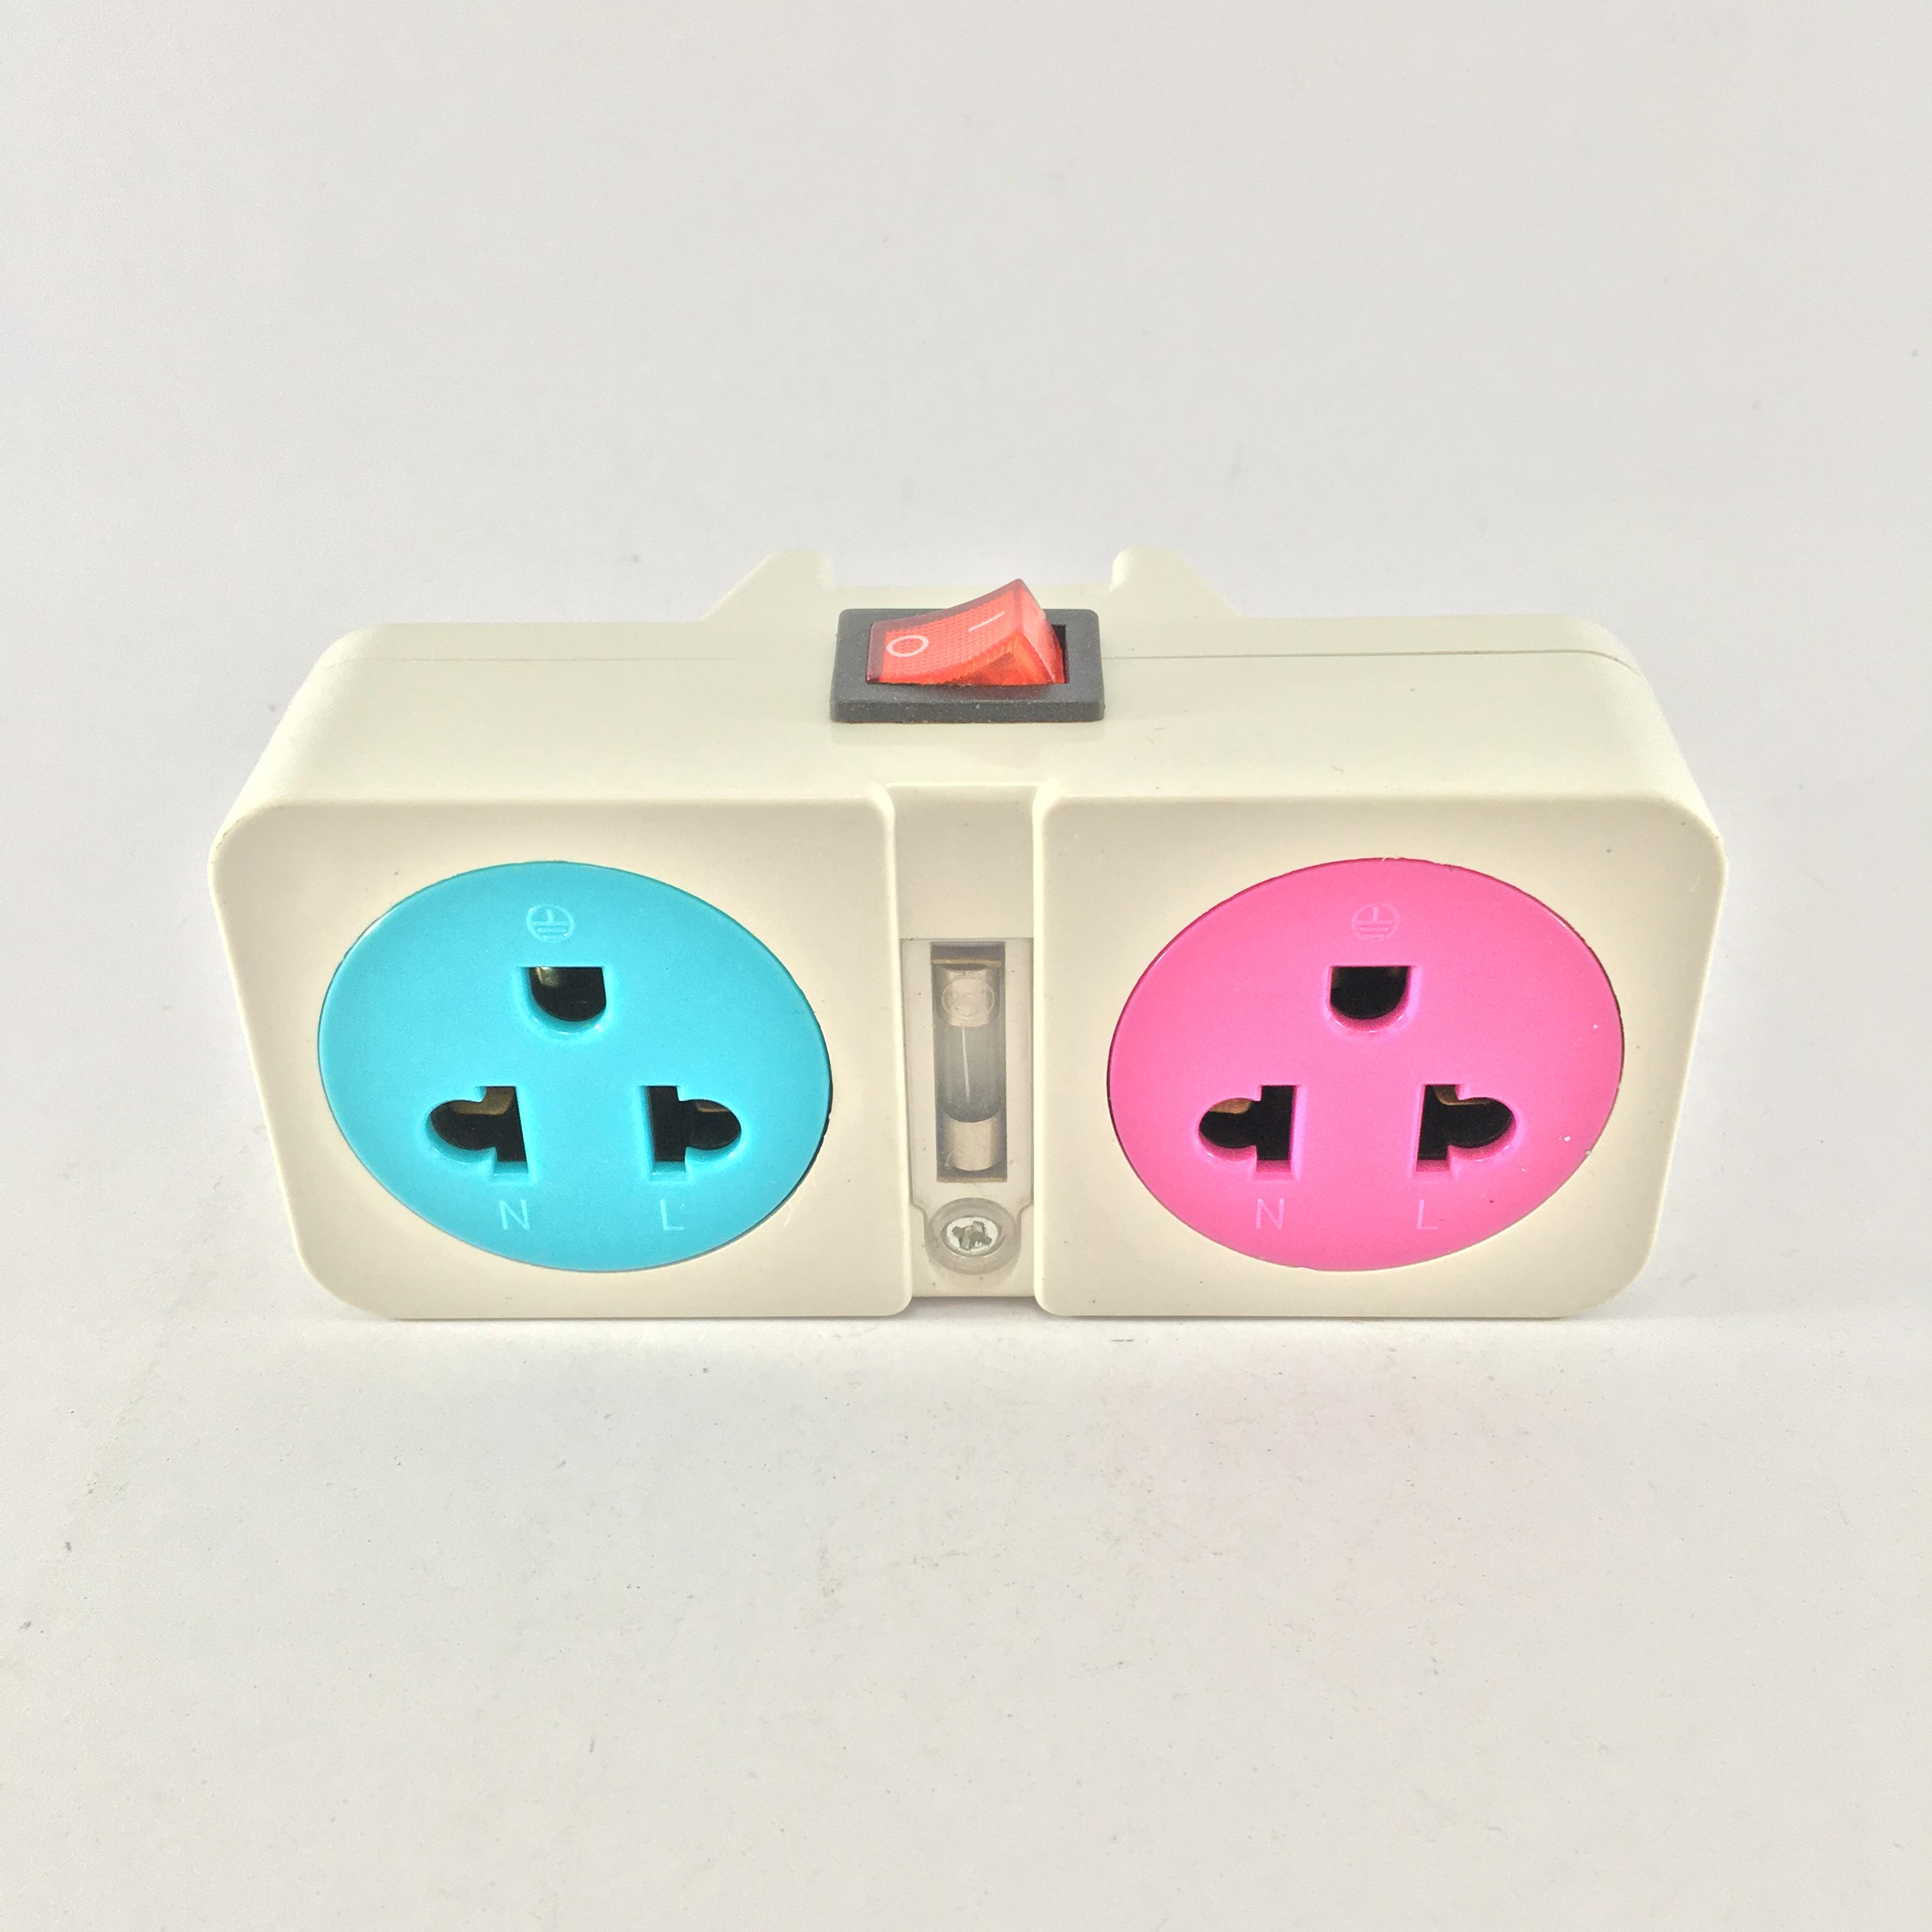Three_eye_plug: (205, 559, 1762, 1359)
